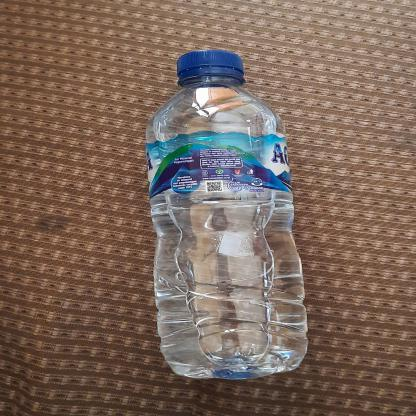bottle: (134, 40, 320, 385)
